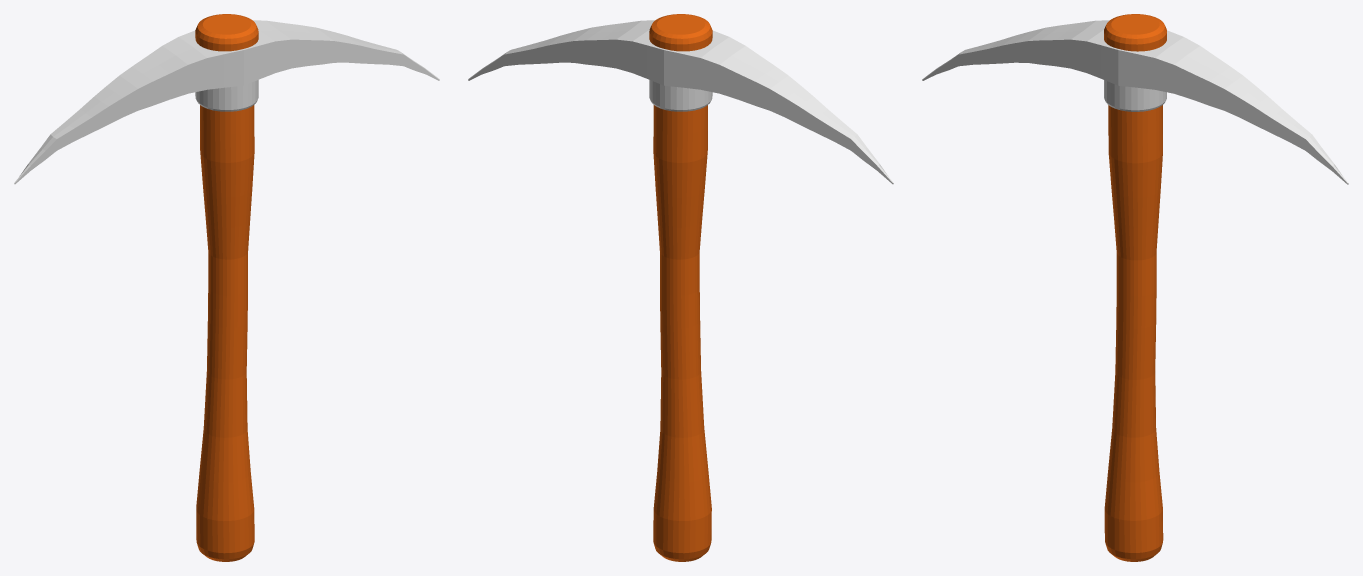
File: кирка2.fbx
The picture shows the model from 3 angles, left to right: view 1: azimuth 30°, elevation 25°; view 2: azimuth 150°, elevation 25°; view 3: azimuth 330°, elevation 25°; orthographic projection.
Visible parts, largest first — view 1: Cylinder; view 2: Cylinder; view 3: Cylinder.
Boxes of the visible parts, x1,y1,x2,y2 form: Cylinder: (14,14,439,561); Cylinder: (468,14,893,561); Cylinder: (922,14,1348,561).
Size of the model in its own units: 367 by 437 by 51.
